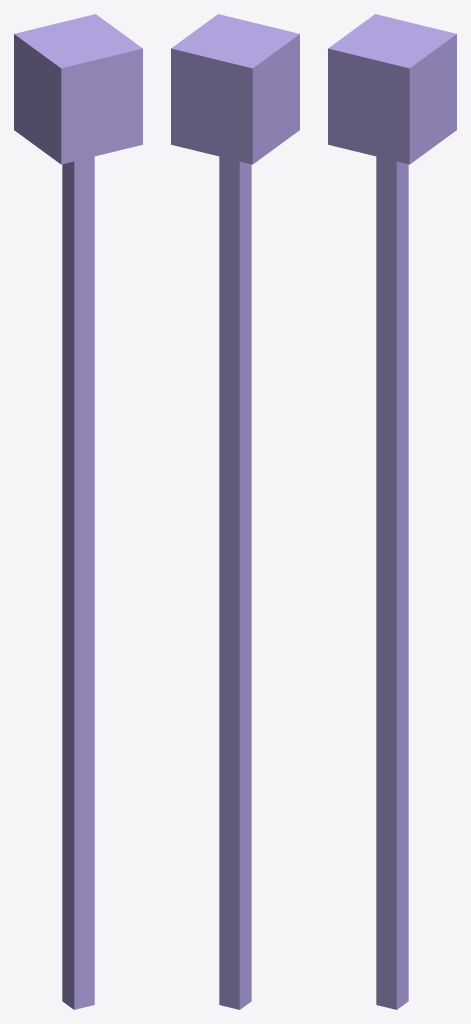
The model's file is lightning_staff.glb.
3 views of the same model, side by side, from view 1: azimuth 30°, elevation 25°; view 2: azimuth 150°, elevation 25°; view 3: azimuth 330°, elevation 25° (orthographic).
Parts seen in each view (by area): view 1: lightning_staff; view 2: lightning_staff; view 3: lightning_staff.
Part boxes in pixels (x1,y1,x2,y2): lightning_staff: [14, 14, 142, 1009]; lightning_staff: [171, 14, 299, 1009]; lightning_staff: [328, 14, 456, 1009].
Bounding box in the file's own units: 0.16 × 1.8 × 0.16.
